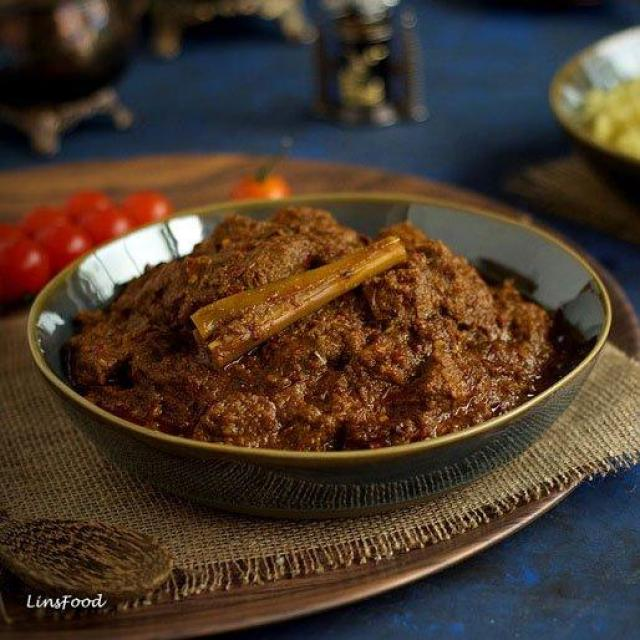Rendang: (64, 218, 557, 455)
